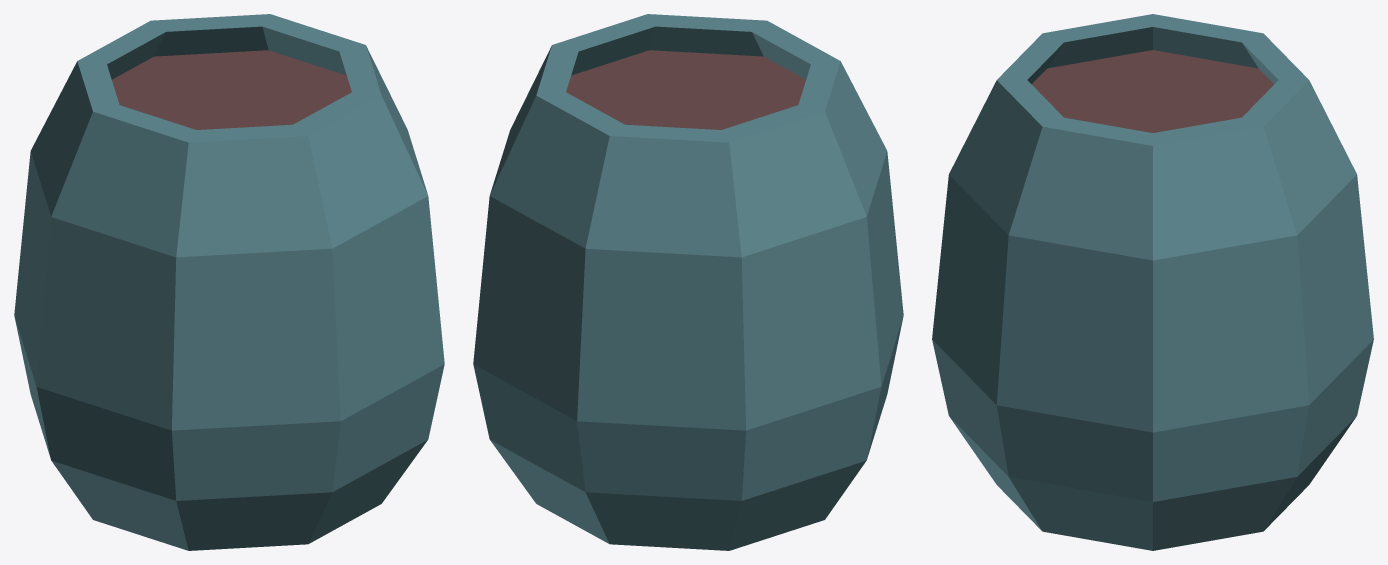
File: Vase5.fbx
3 views of the same model, side by side, from view 1: azimuth 30°, elevation 25°; view 2: azimuth 150°, elevation 25°; view 3: azimuth 270°, elevation 25° (orthographic).
Parts seen in each view (by area): view 1: Vase5; view 2: Vase5; view 3: Vase5.
Boxes of the visible parts, x1,y1,x2,y2 form: Vase5: (14, 14, 444, 550); Vase5: (473, 14, 903, 550); Vase5: (932, 14, 1373, 550).
Bounding box in the file's own units: 2 × 2.02 × 2.
